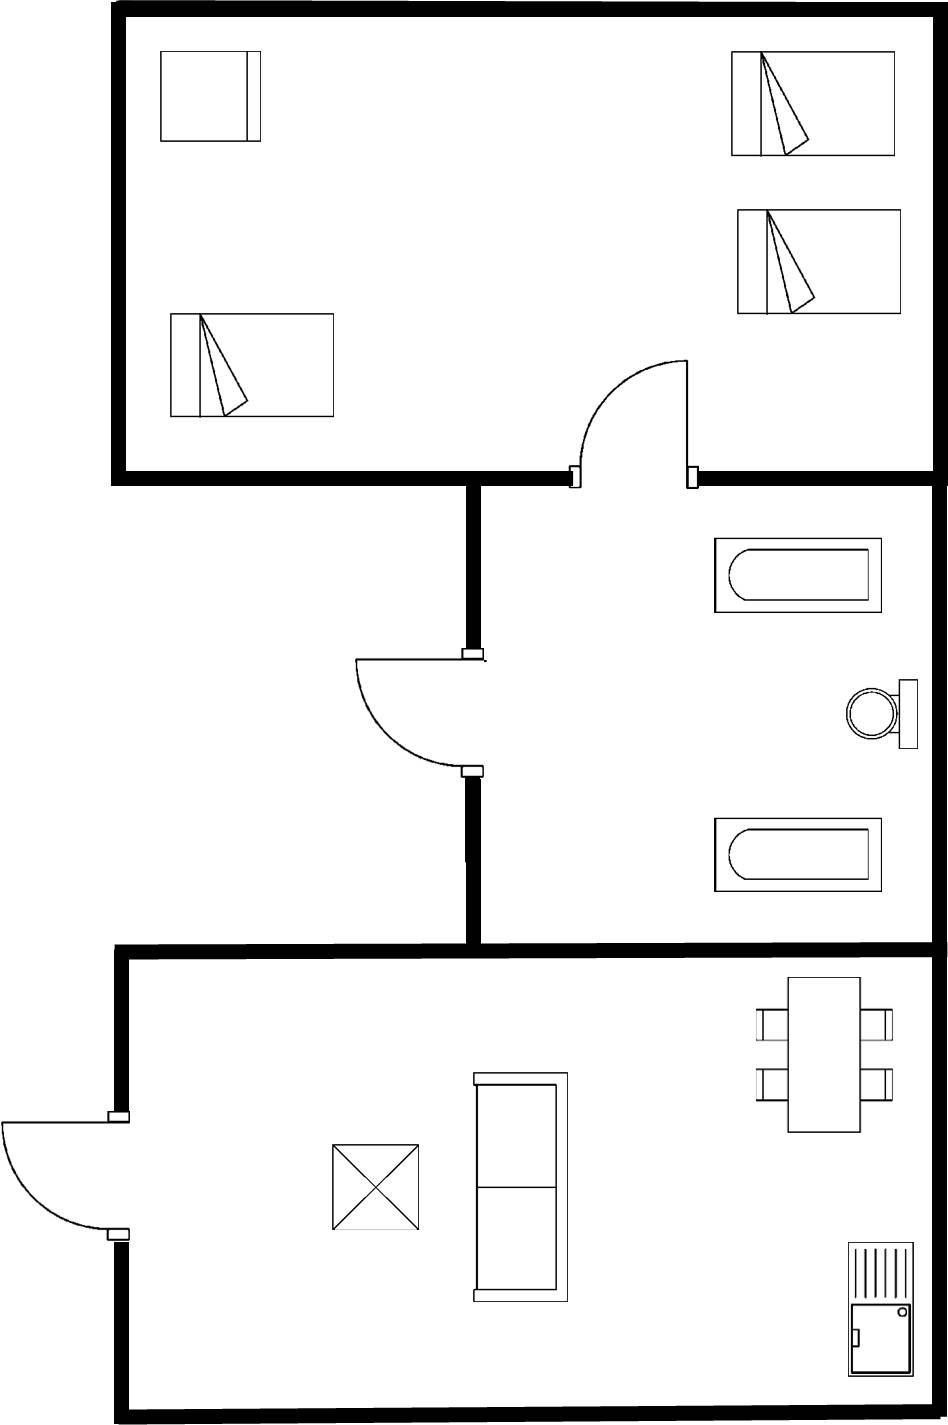bed: (161, 305, 341, 424), (725, 45, 902, 162), (730, 202, 900, 323)
coffee_table: (325, 1138, 427, 1237)
dining_table: (746, 970, 898, 1141)
large_sink: (841, 671, 925, 760)
large_sofa: (466, 1064, 575, 1310)
sink: (839, 1235, 923, 1384)
small_sofa: (153, 44, 270, 149)
tub: (706, 530, 888, 620), (706, 810, 888, 899)
